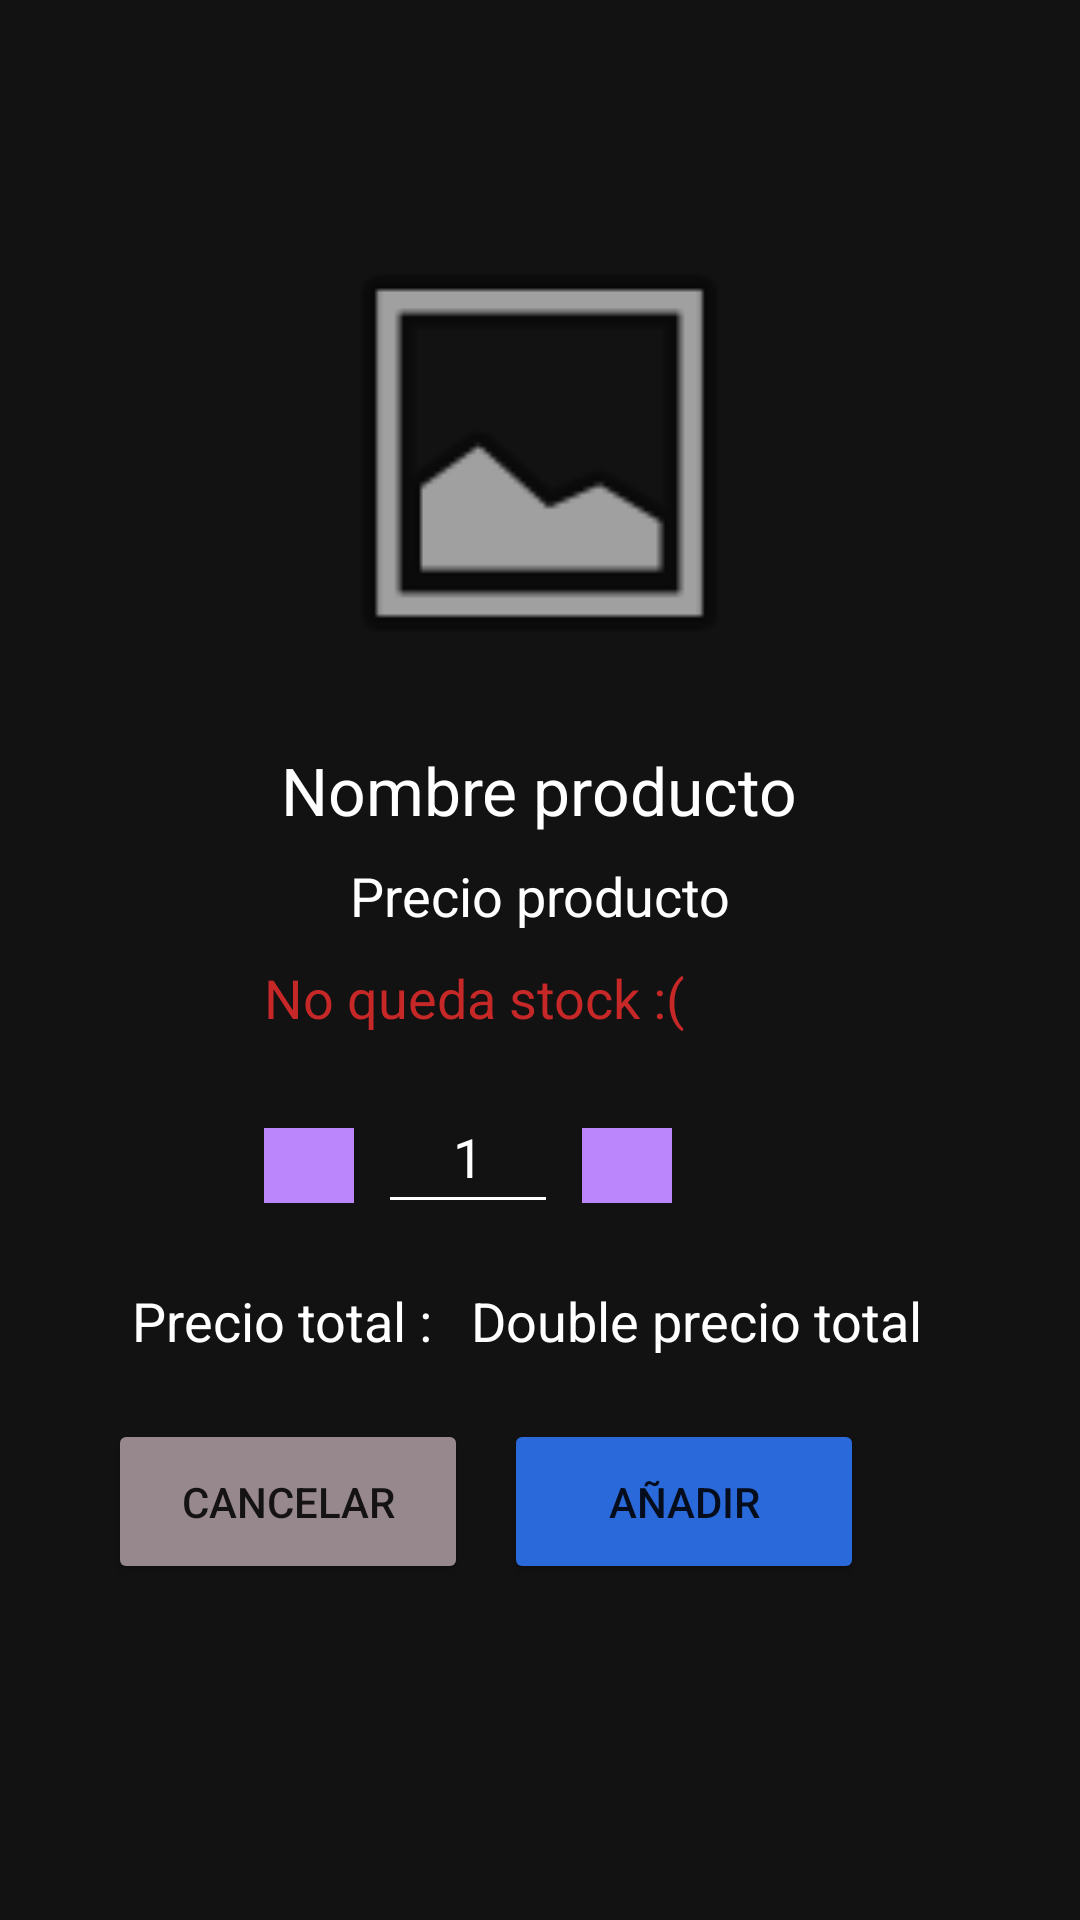

Point at icon controls on the screen. Image size 1080px x 1920px, points as point (x, y).
gallery: point (539, 453)
